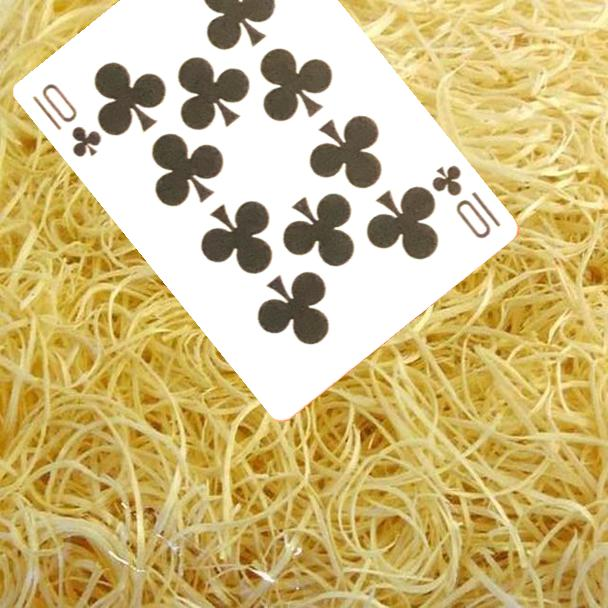c10: (428, 161, 504, 242), (29, 80, 105, 161)
